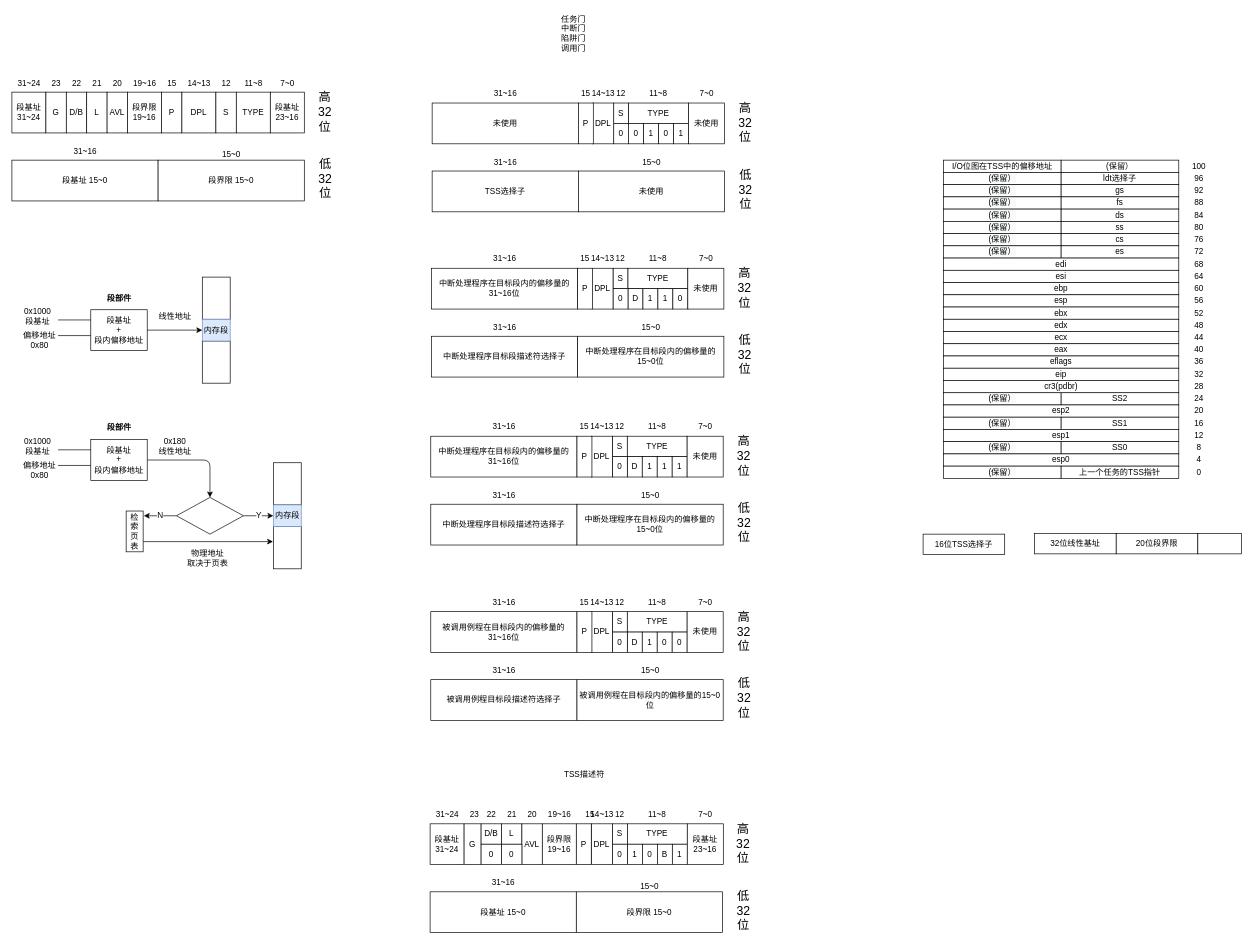
Some shapes in this 1253 by 945 pixel diagram are drawn without their labels. Each missing label, with the box of its shape:
分页是否 打开？: (176, 497, 243, 534)
属性: (1197, 533, 1241, 554)
